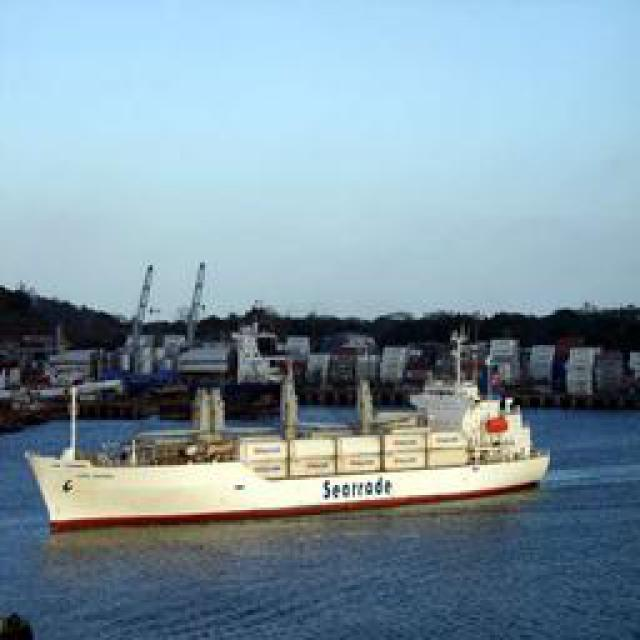Ship: (37, 399, 547, 532)
